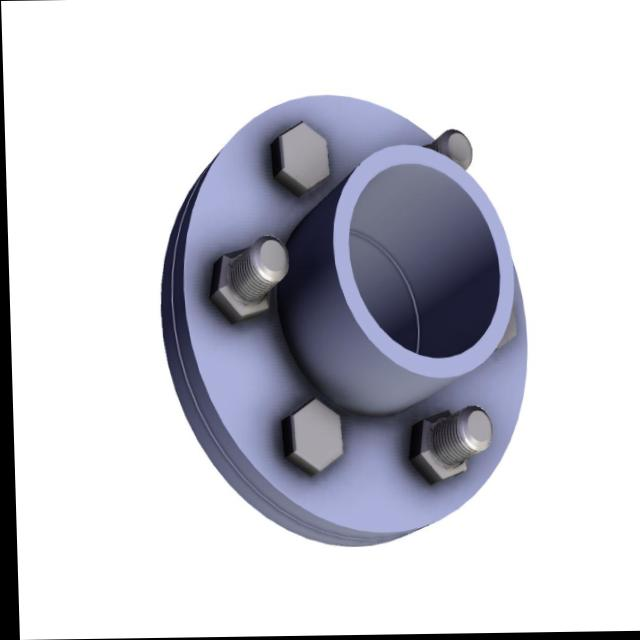Regular bolt: (208, 238, 289, 326), (405, 412, 485, 485), (280, 399, 342, 478), (268, 123, 330, 199)
